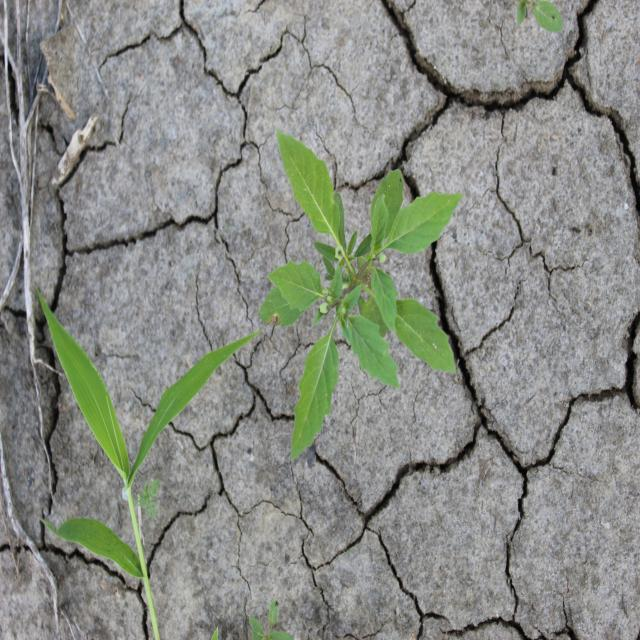CutleafGroundcherry: (257, 126, 465, 462)
